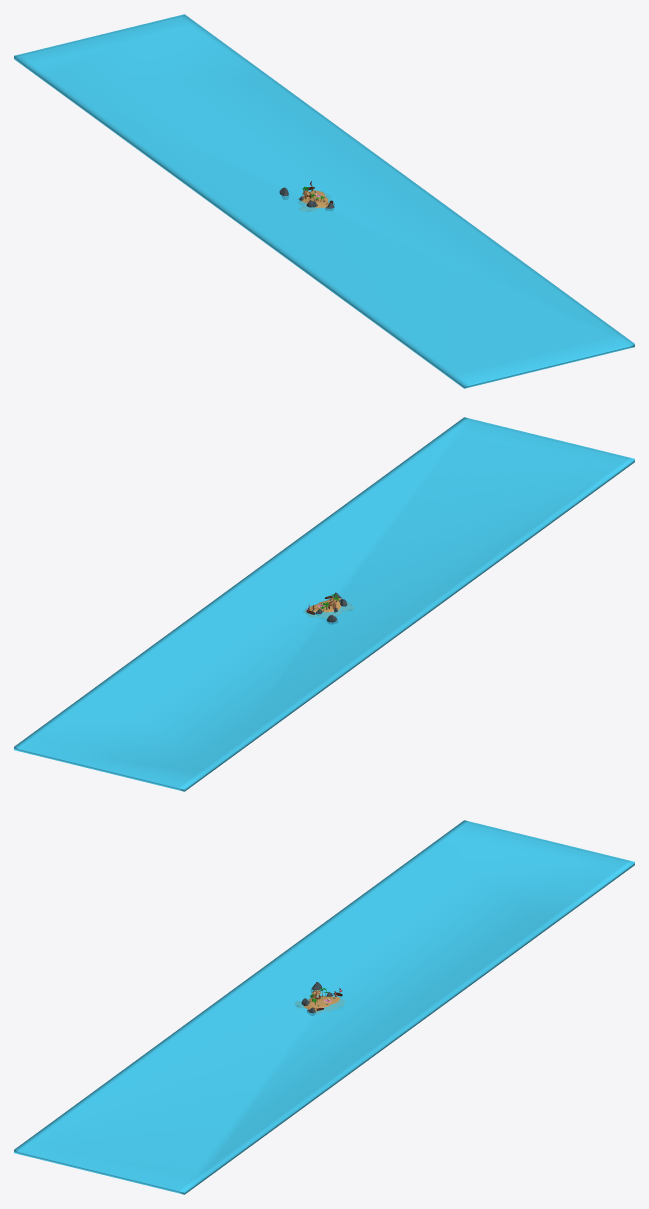
Rendered from oyeoiiisland-draco.glb.
The picture shows the model from 3 angles, top to bottom: view 1: azimuth 30°, elevation 25°; view 2: azimuth 150°, elevation 25°; view 3: azimuth 330°, elevation 25°; orthographic projection.
Visible parts, largest first — view 1: Plane; view 2: Plane; view 3: Plane.
Part boxes in pixels (<box>): Plane: <box>14,14,634,388</box>; Plane: <box>14,417,634,791</box>; Plane: <box>14,820,634,1194</box>.
Size of the model in its own units: 26.97 by 2.01 by 123.
